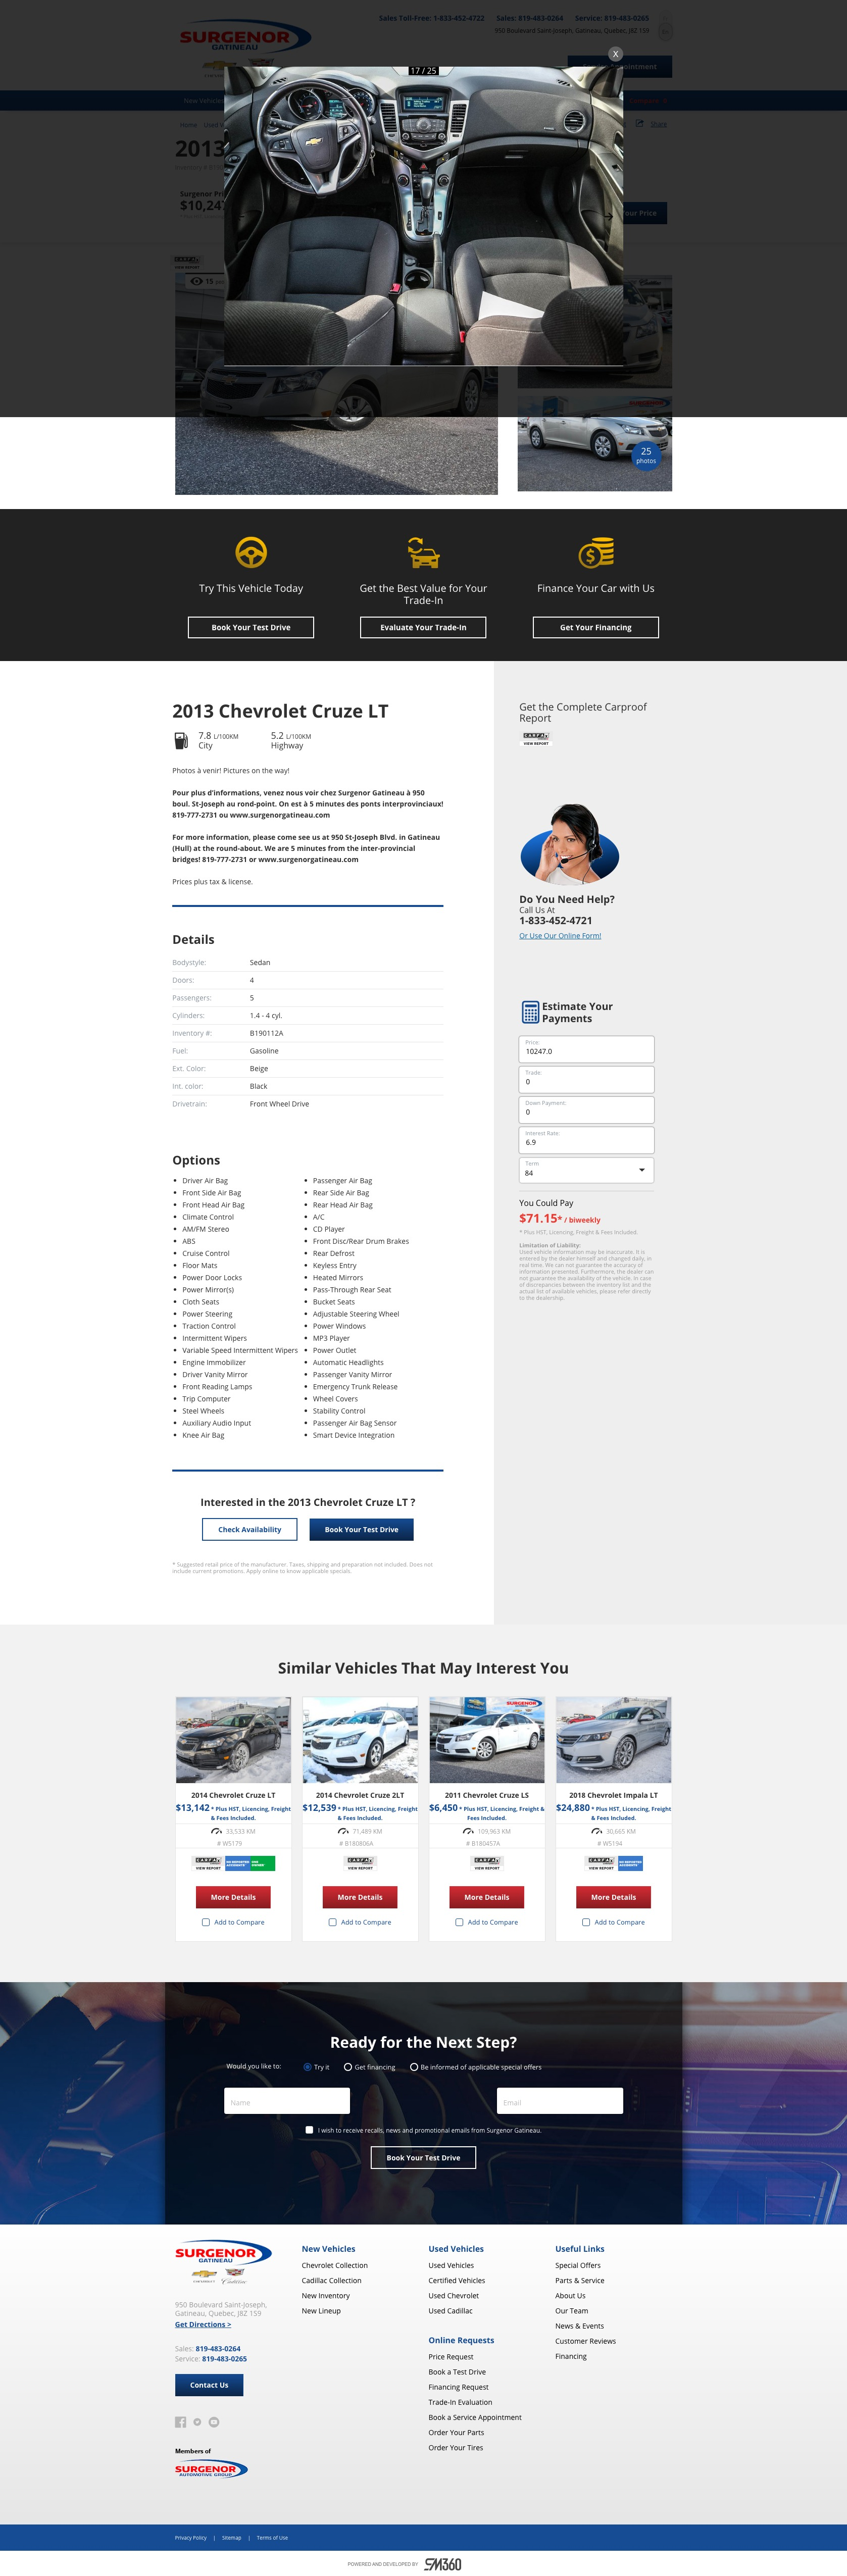car: (632, 442, 663, 472)
